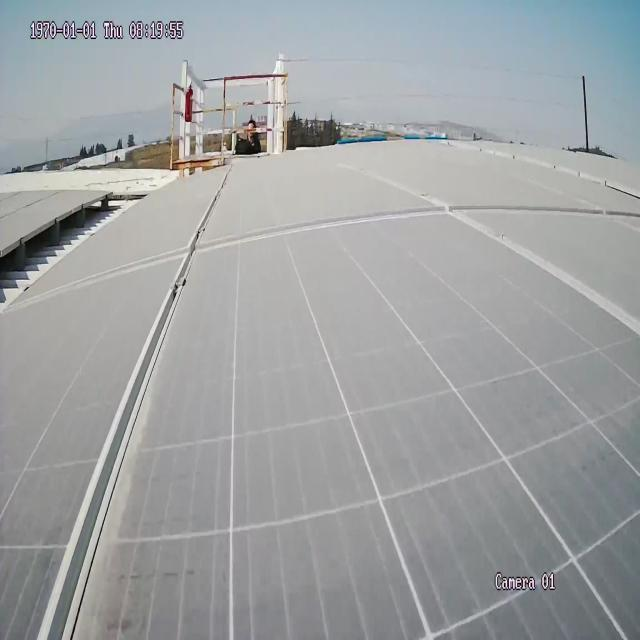interior panel: (5, 153, 640, 640)
outher panel: (0, 189, 161, 325)
